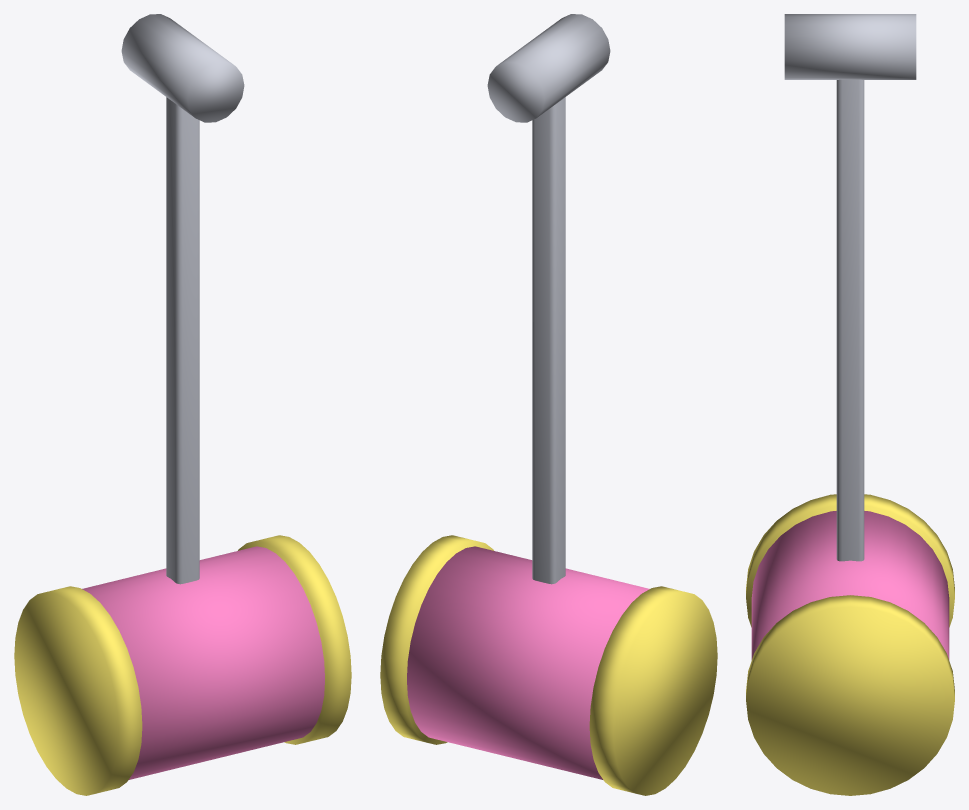
File: hammer.glb
The picture shows the model from 3 angles, left to right: view 1: azimuth 30°, elevation 25°; view 2: azimuth 150°, elevation 25°; view 3: azimuth 270°, elevation 25°; orthographic projection.
Parts seen in each view (by area): view 1: HammerHead, HammerCapL, HammerArm, HammerPivot, HammerCapR; view 2: HammerHead, HammerCapL, HammerArm, HammerPivot, HammerCapR; view 3: HammerCapR, HammerHead, HammerArm, HammerPivot, HammerCapL.
Part boxes in pixels (box(x1,y1,x2,y2)): HammerHead: box(82, 546, 324, 779); HammerCapL: box(14, 586, 142, 795); HammerArm: box(166, 97, 199, 584); HammerPivot: box(121, 14, 244, 122); HammerCapR: box(238, 535, 351, 744); HammerHead: box(407, 546, 649, 779); HammerCapL: box(589, 586, 717, 795); HammerArm: box(532, 97, 565, 584); HammerPivot: box(487, 14, 610, 122); HammerCapR: box(380, 535, 493, 744); HammerCapR: box(746, 595, 954, 795); HammerHead: box(751, 511, 949, 659); HammerArm: box(836, 79, 864, 561); HammerPivot: box(784, 14, 916, 79); HammerCapL: box(746, 494, 954, 627).
Bounding box in the file's own units: 2.45 × 7.25 × 1.9.
